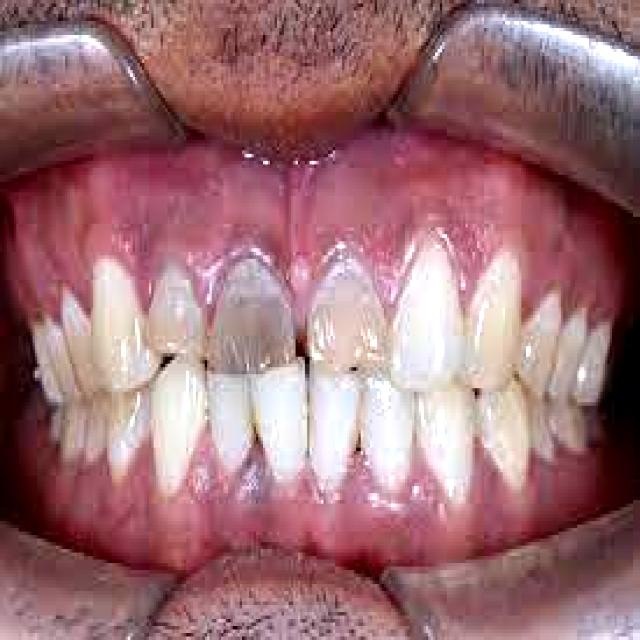tooth-discoloration: (207, 255, 293, 371), (307, 248, 386, 371)
